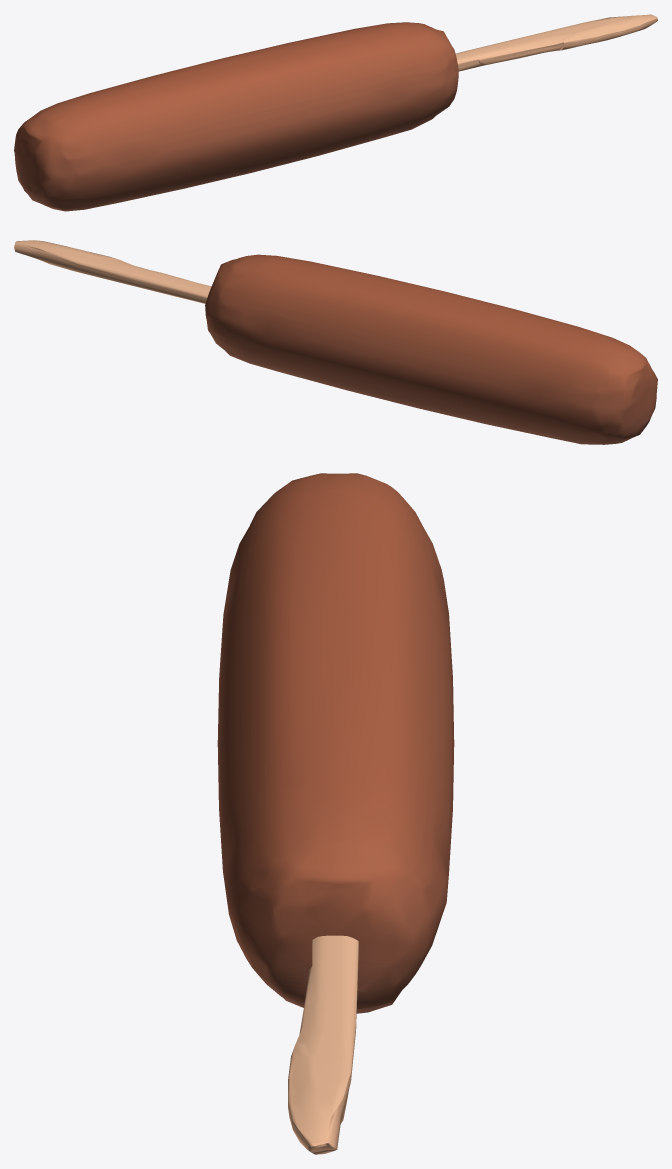
The picture shows the model from 3 angles, top to bottom: view 1: azimuth 30°, elevation 25°; view 2: azimuth 150°, elevation 25°; view 3: azimuth 270°, elevation 25°; orthographic projection. The views are drawn at different scales.
Bounding box in the file's own units: 0.9962 × 0.1555 × 0.1633.
1 material, 1 textured.
